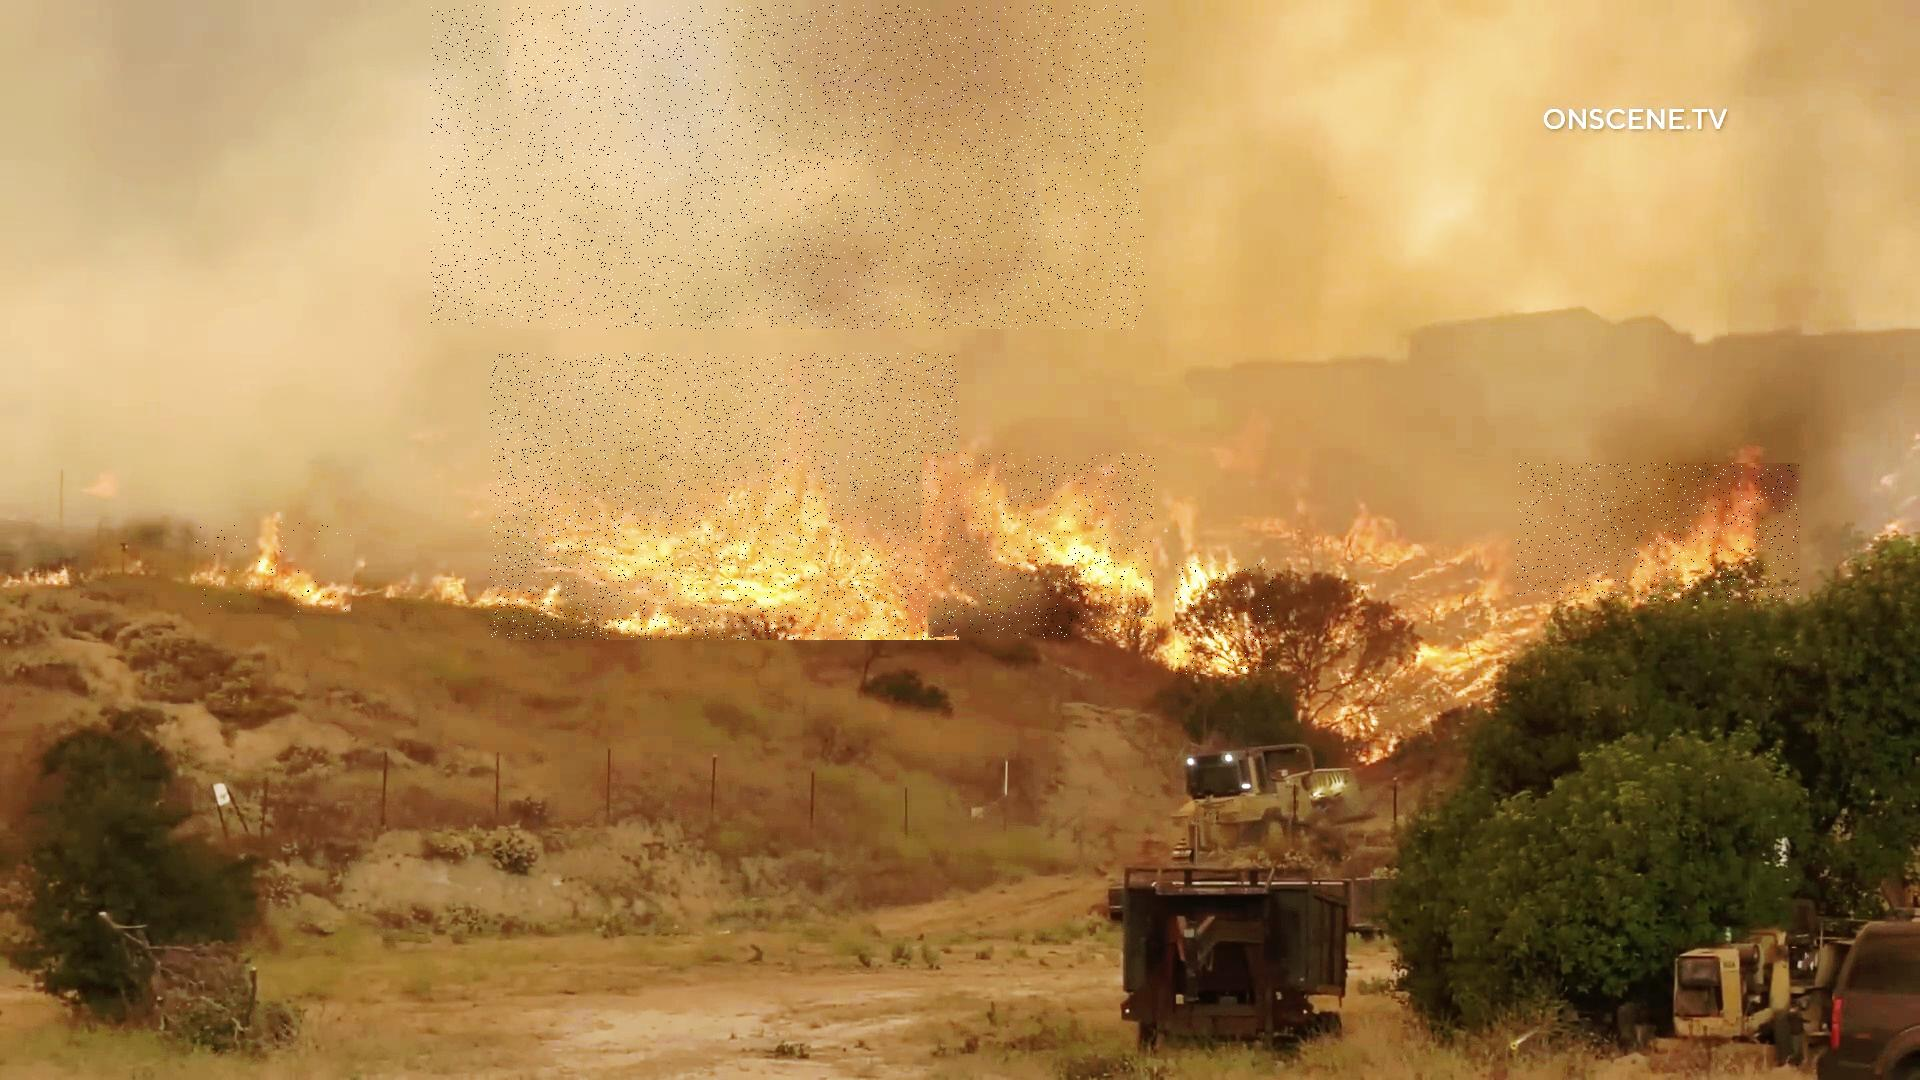fire: (491, 353, 959, 641), (923, 454, 1155, 638), (1516, 463, 1800, 603), (195, 521, 355, 615), (1176, 563, 1275, 674)
smoke: (430, 5, 1145, 328)
